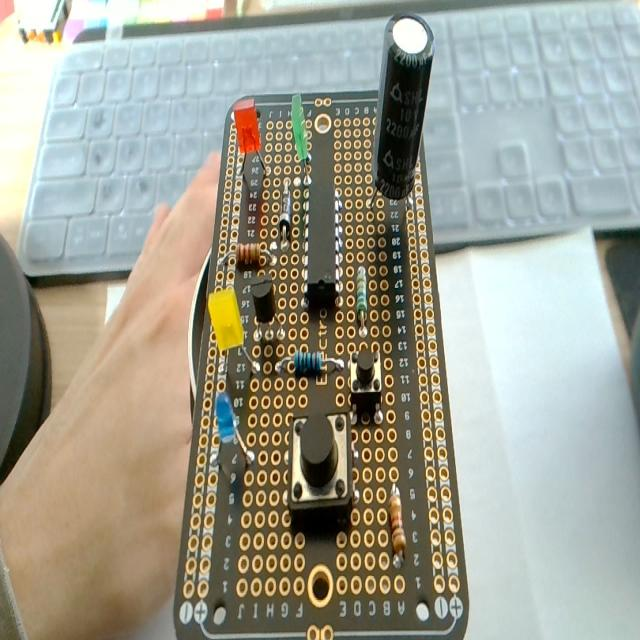Electrolytic capacitor: (369, 17, 434, 217)
diode: (279, 182, 292, 243)
led: (208, 284, 255, 412), (214, 390, 254, 471), (232, 97, 266, 181), (208, 286, 245, 352), (291, 93, 308, 161)
resistor: (276, 349, 345, 378), (389, 487, 406, 558), (355, 266, 368, 334), (237, 242, 261, 266)
switch: (287, 410, 353, 526), (349, 347, 382, 420)
transistor: (252, 276, 282, 345)
